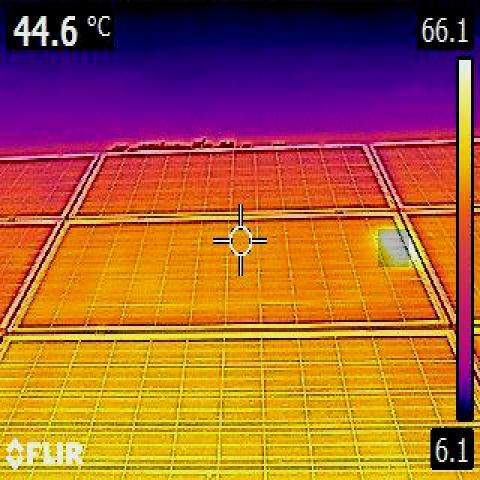fault: (378, 229, 409, 267)
